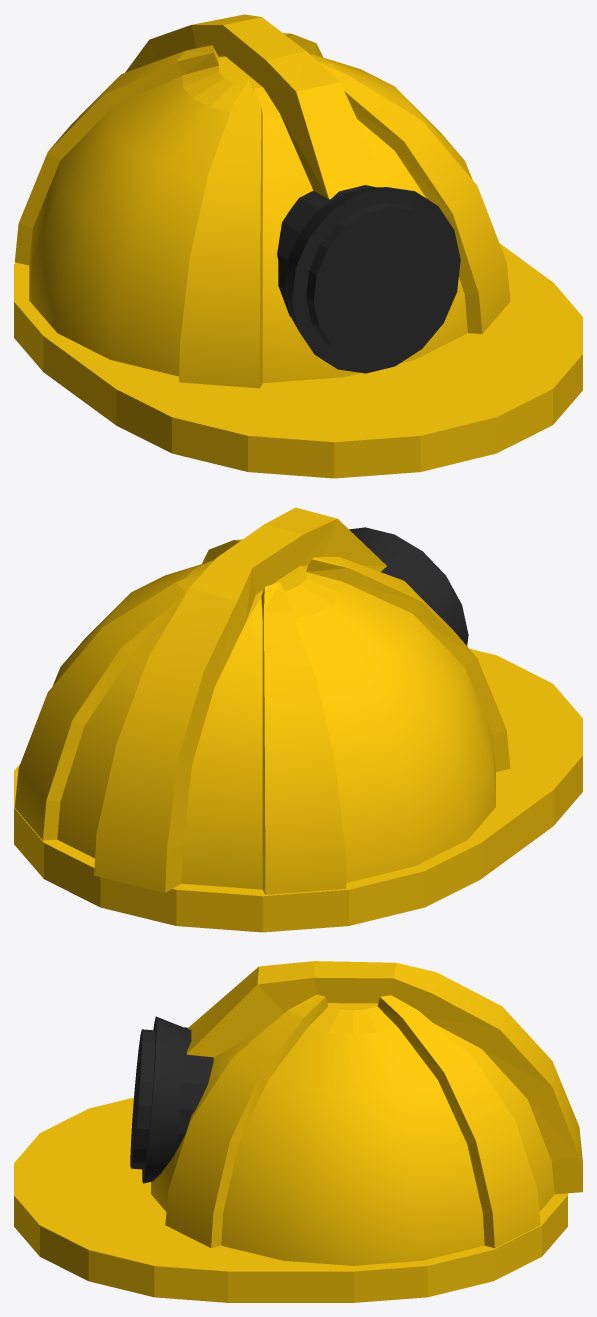
The model's file is miner_helmet.FBX.
3 views of the same model, one above another, from view 1: azimuth 30°, elevation 25°; view 2: azimuth 150°, elevation 25°; view 3: azimuth 270°, elevation 25° (orthographic). The views are drawn at different scales.
Visible parts, largest first — view 1: helmet, light; view 2: helmet, light; view 3: helmet, light.
Part boxes in pixels (x1,y1,x2,y2): helmet: [14, 14, 582, 478]; light: [277, 185, 460, 373]; helmet: [14, 507, 582, 932]; light: [349, 527, 468, 645]; helmet: [14, 961, 582, 1302]; light: [130, 1016, 213, 1183].
Bounding box in the file's own units: 6.96 × 4.25 × 9.07.
